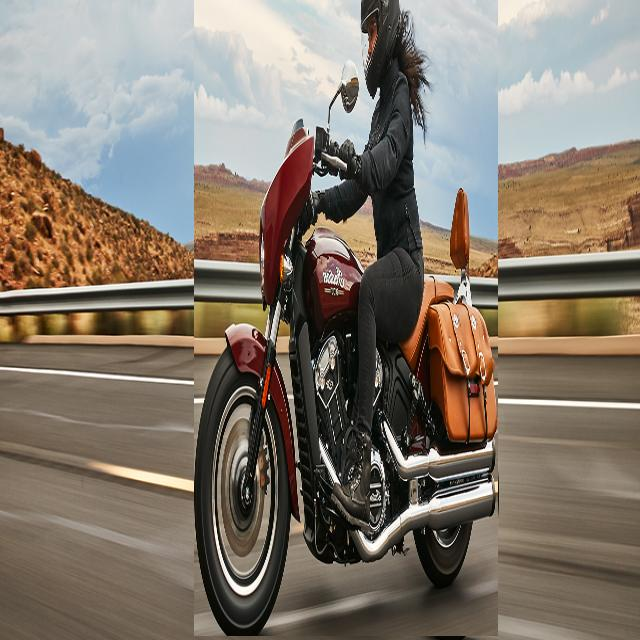motorcycle: (195, 0, 498, 636)
